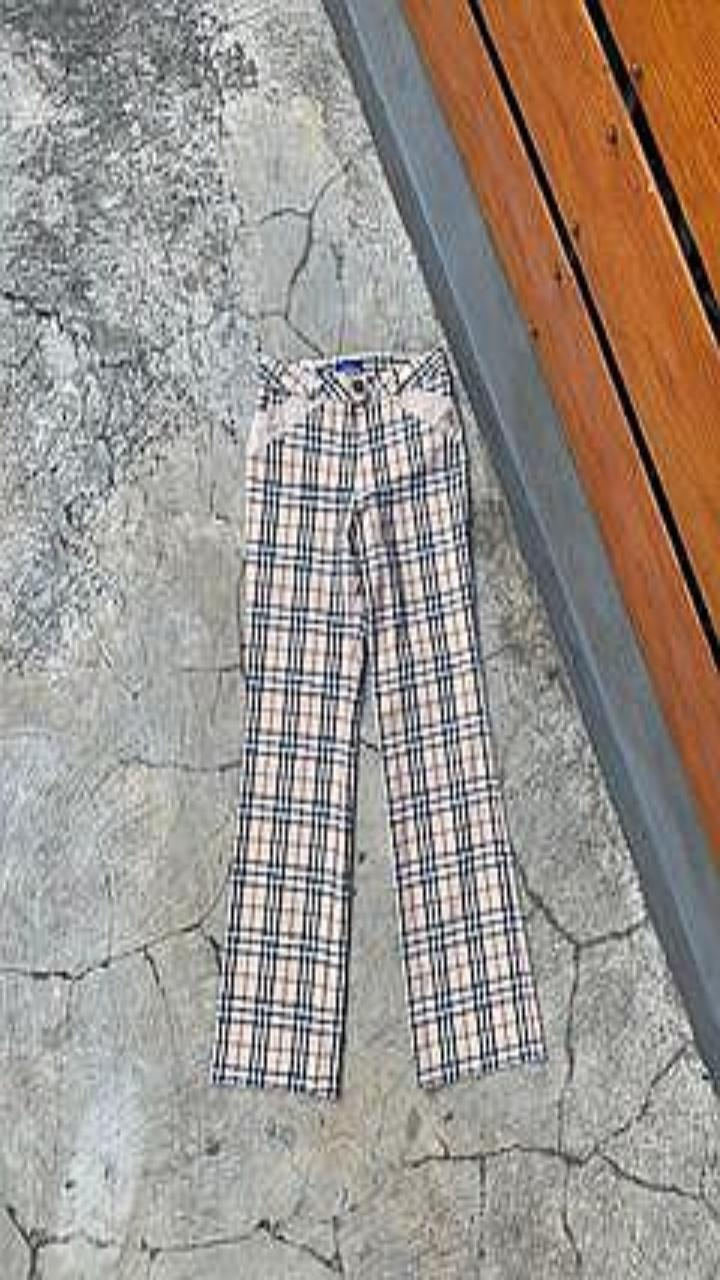Jeans: (211, 345, 545, 1096)
